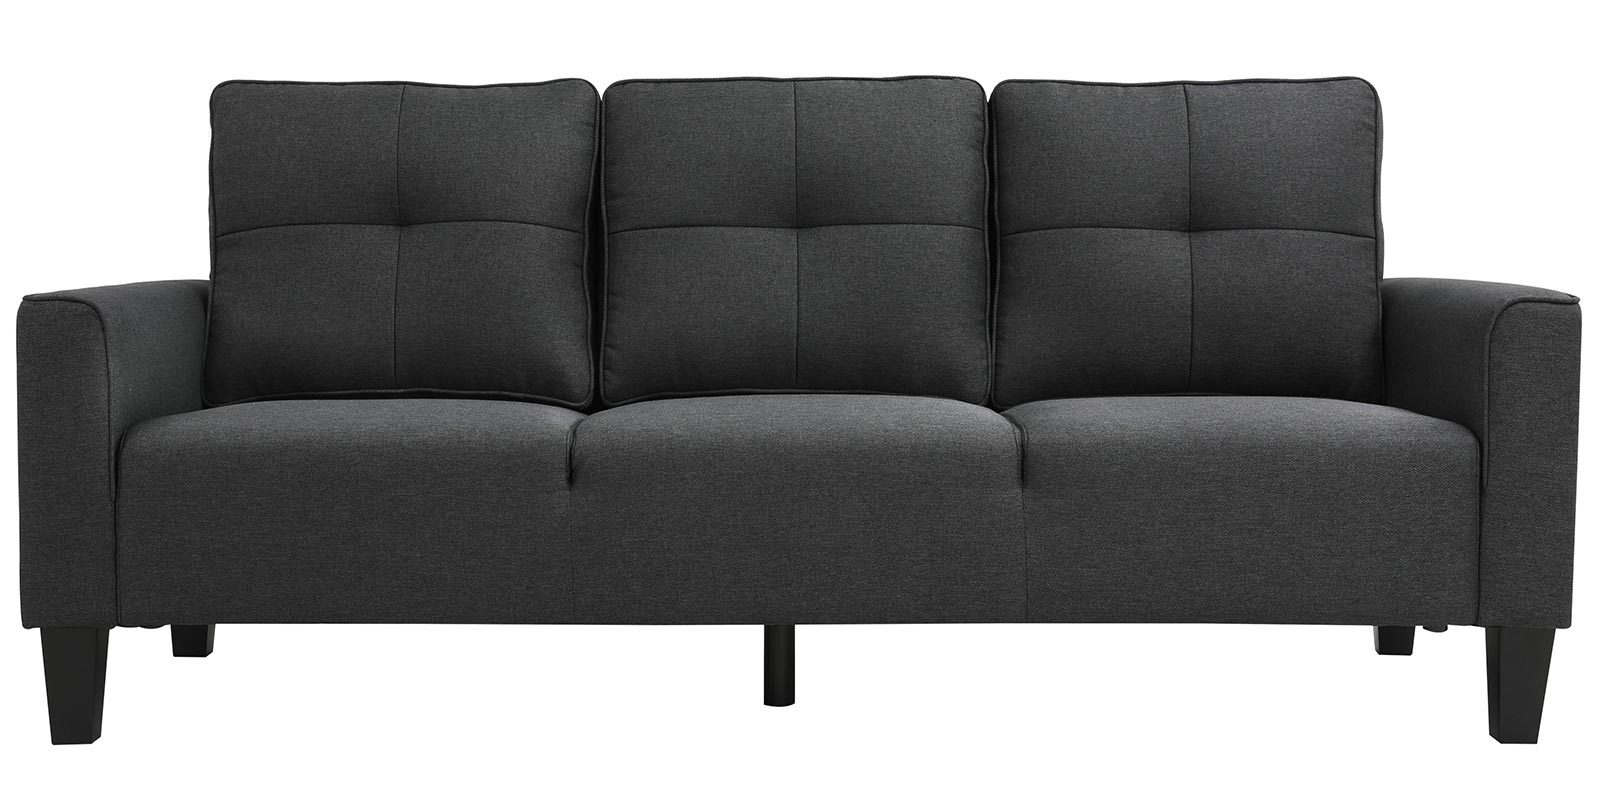Alice Three Seater Sofa in Grey Colour by Zofa: (17, 70, 1600, 786)
